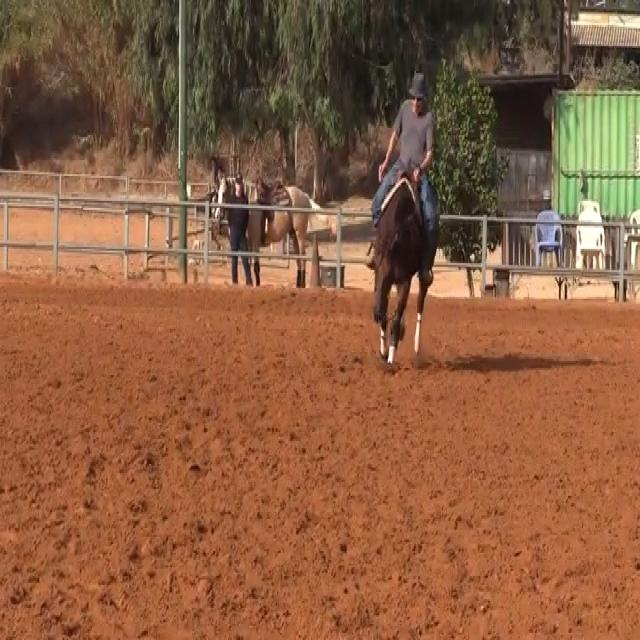horse: (369, 171, 438, 368)
